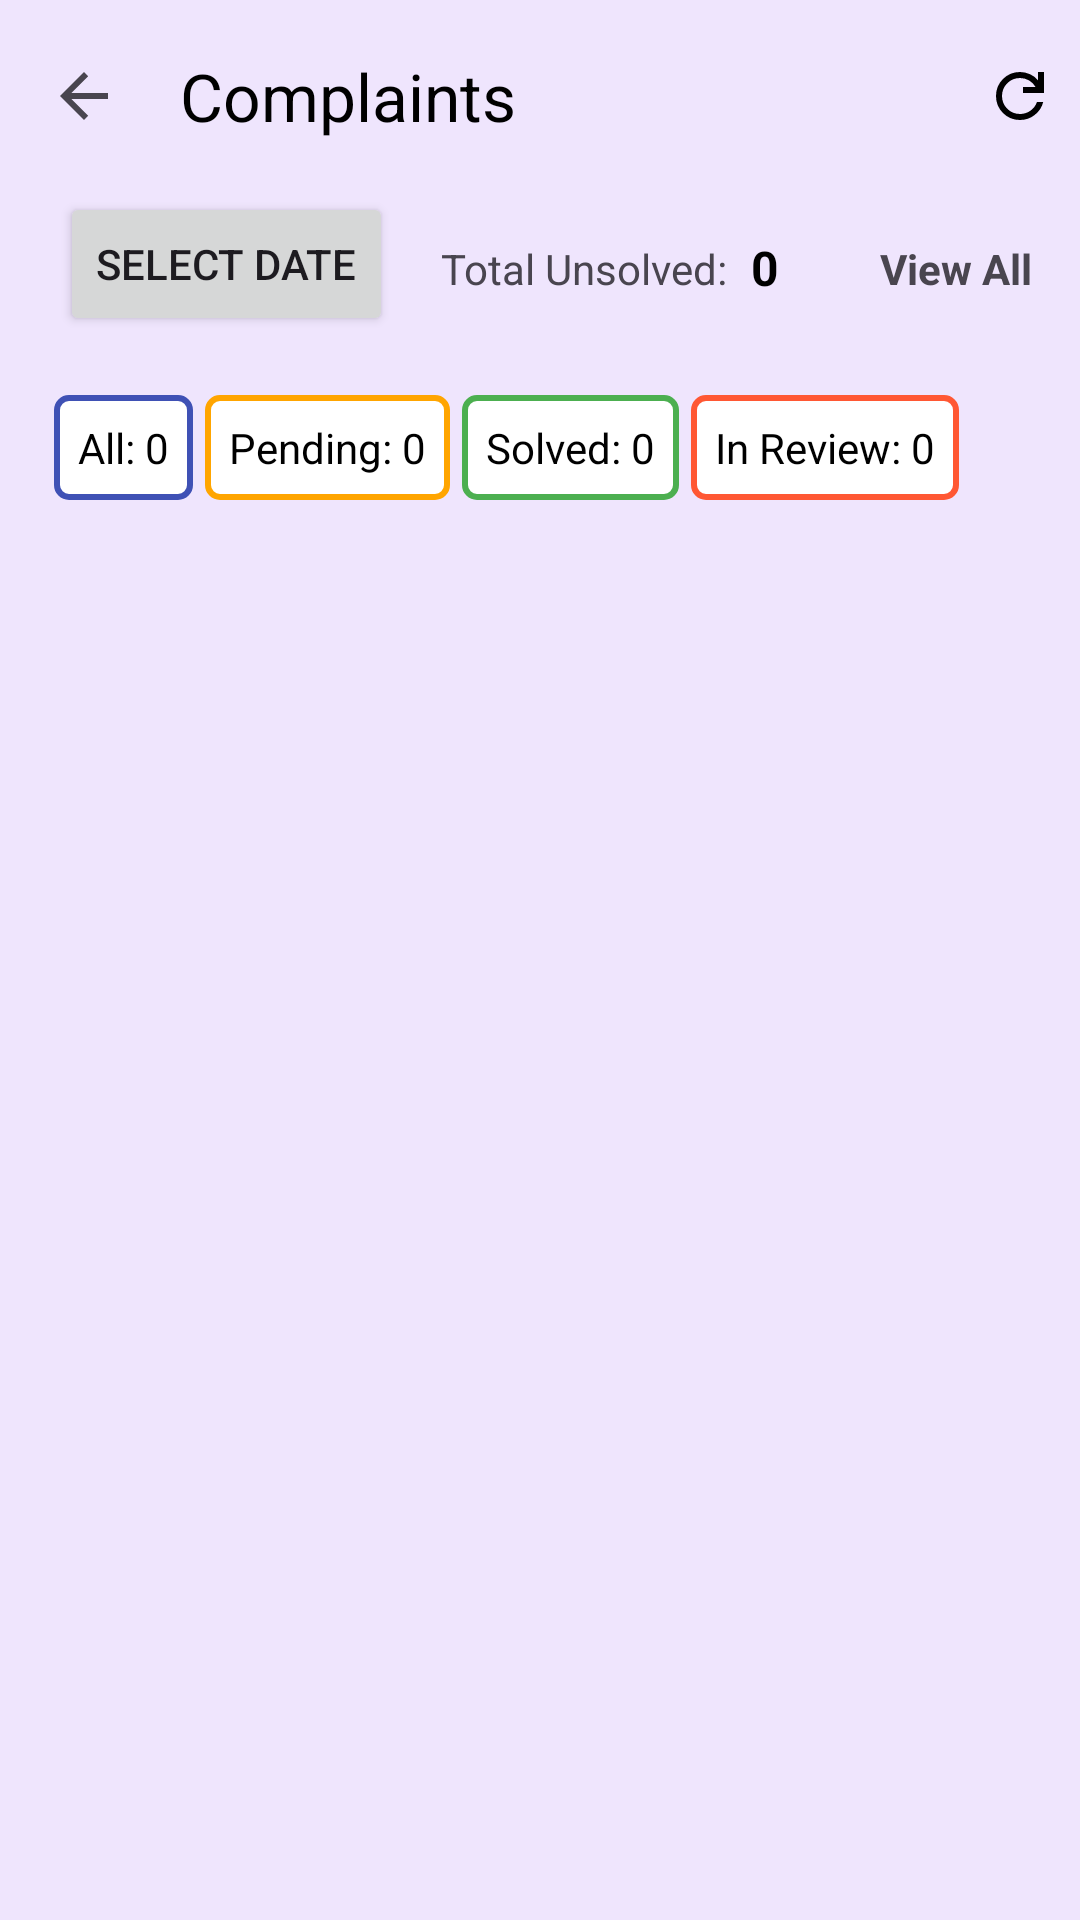

Icons on this 1080 × 1920 Android screen, each with its box as (x1, y1, x2, y2):
Refresh: (996, 72, 1044, 120)
